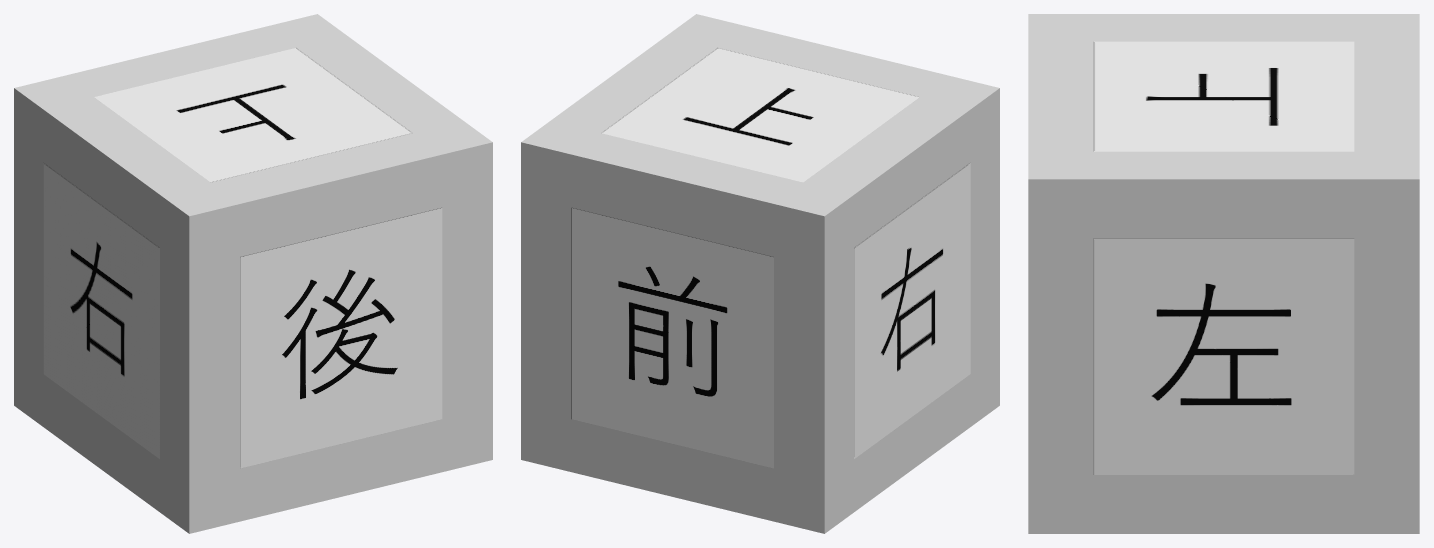
The model's file is SceneGizmo.fbx.
3 renders of one model, left to right at view 1: azimuth 30°, elevation 25°; view 2: azimuth 150°, elevation 25°; view 3: azimuth 270°, elevation 25°, orthographic. The views are drawn at different scales.
Parts seen in each view (by area): view 1: Surface0, Surface4, Surface2, Edge0, Edge1, Edge8, Edge2, Edge3, Edge9, Edge10, Edge7, Edge4 (+7 smaller); view 2: Surface3, Surface4, Surface2, Edge9, Edge7, Edge8, Edge11, Edge6, Edge0, Edge10, Edge1, Edge4 (+7 smaller); view 3: Surface1, Surface2, Edge4, Edge3, Edge6, Edge5, Edge8, Edge1, Edge7, Corner3, Corner4, Corner2 (+3 smaller).
Boxes of the visible parts, <box> form: Surface0: <box>240,207,442,468</box>; Surface4: <box>43,162,159,459</box>; Surface2: <box>94,48,412,182</box>; Edge0: <box>160,248,239,480</box>; Edge1: <box>211,133,442,256</box>; Edge8: <box>43,97,210,247</box>; Edge2: <box>240,419,442,521</box>; Edge3: <box>442,195,492,419</box>; Edge9: <box>14,141,43,373</box>; Edge10: <box>43,374,159,511</box>; Edge7: <box>65,26,295,96</box>; Edge4: <box>296,35,463,132</box>; Surface3: <box>571,207,773,468</box>; Surface4: <box>854,162,970,459</box>; Surface2: <box>601,48,919,182</box>; Edge9: <box>774,248,853,480</box>; Edge7: <box>571,133,802,256</box>; Edge8: <box>803,97,970,247</box>; Edge11: <box>571,419,773,521</box>; Edge6: <box>521,195,571,419</box>; Edge0: <box>970,141,999,373</box>; Edge10: <box>854,374,970,511</box>; Edge1: <box>718,26,948,96</box>; Edge4: <box>550,35,717,132</box>; Surface1: <box>1093,238,1354,474</box>; Surface2: <box>1093,41,1354,151</box>; Edge4: <box>1093,151,1354,238</box>; Edge3: <box>1028,238,1093,474</box>; Edge6: <box>1354,238,1419,474</box>; Edge5: <box>1093,475,1354,533</box>; Edge8: <box>1093,14,1354,41</box>; Edge1: <box>1028,41,1093,151</box>; Edge7: <box>1354,41,1419,151</box>; Corner3: <box>1028,151,1093,238</box>; Corner4: <box>1354,151,1419,238</box>; Corner2: <box>1028,475,1093,533</box>.
Size of what is drawn, in the model's own units: 200 by 200 by 200.
